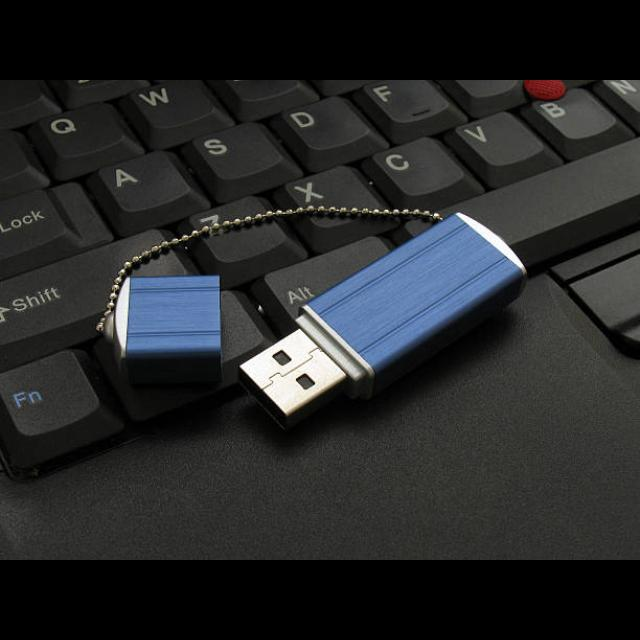USB-Flash-Drive: (238, 213, 527, 432)
